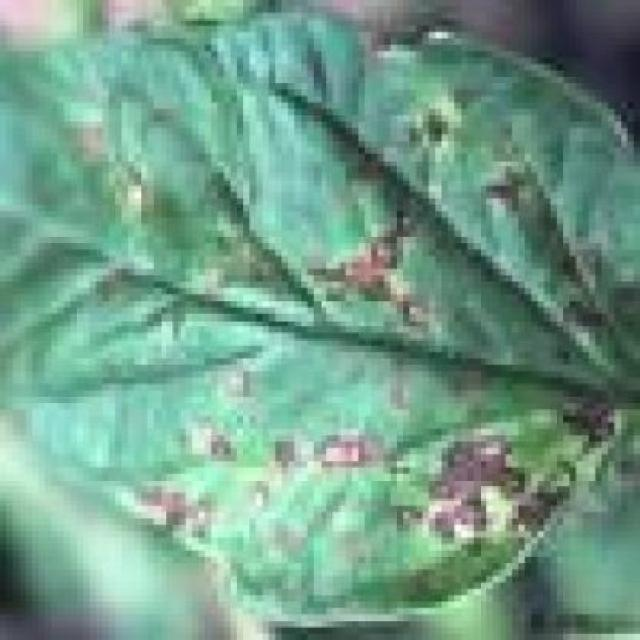Septoria leaf spot: (1, 21, 629, 629)
